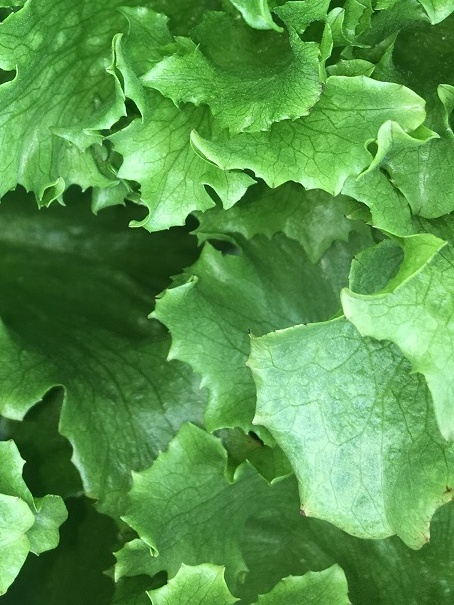tipburn: (294, 500, 315, 521), (249, 432, 268, 449), (419, 531, 435, 549), (439, 483, 454, 499), (315, 79, 329, 96), (242, 326, 256, 339)
